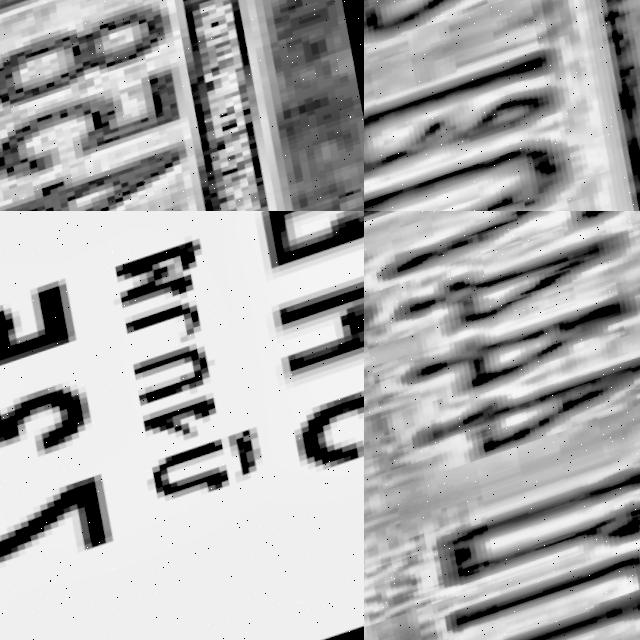license-plate: (0, 211, 364, 640), (364, 211, 640, 640), (0, 0, 364, 211), (364, 0, 640, 211)
